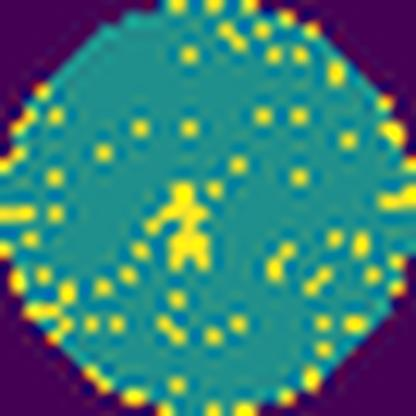Center: (144, 181, 216, 280)
